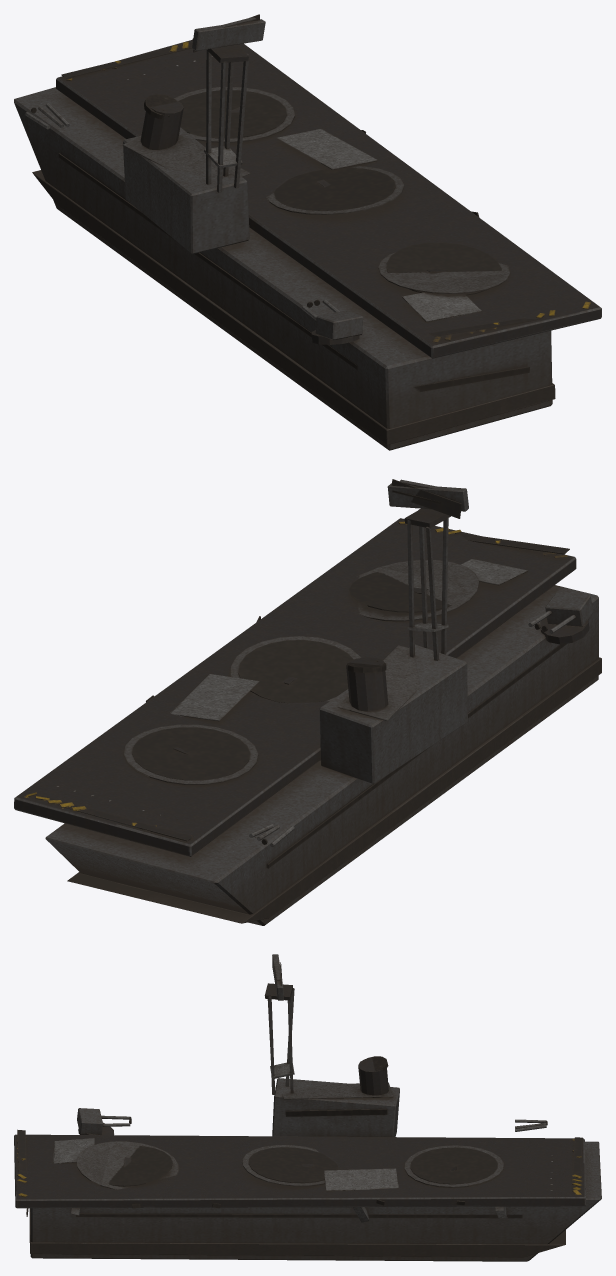
The model's file is chs_leviathan_wreck.fbx.
3 views of the same model, one above another, from view 1: azimuth 30°, elevation 25°; view 2: azimuth 150°, elevation 25°; view 3: azimuth 270°, elevation 25° (orthographic). The views are drawn at different scales.
Parts seen in each view (by area): view 1: base_bar, turret2_bar, radar_bar; view 2: base_bar, turret2_bar, radar_bar; view 3: base_bar, turret2_bar.
Boxes of the visible parts, x1,y1,x2,y2 form: base_bar: (14,39,601,450); turret2_bar: (301,299,362,344); radar_bar: (192,14,265,52); base_bar: (14,508,601,925); turret2_bar: (528,592,593,644); radar_bar: (387,479,468,518); base_bar: (14,983,601,1261); turret2_bar: (77,1108,131,1135).
Bounding box in the file's own units: 1053 × 1380 × 2876.
Materials: 2 (2 with a texture image).
